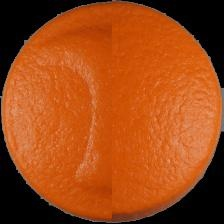0904-2011: (0, 0, 224, 224)
